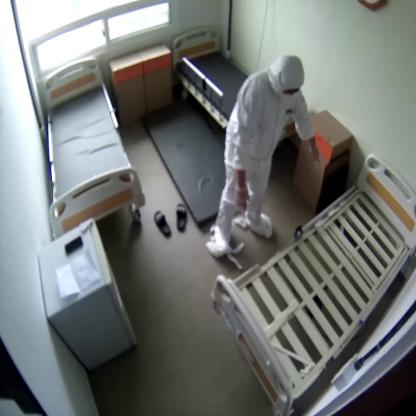Person: (214, 55, 320, 252)
